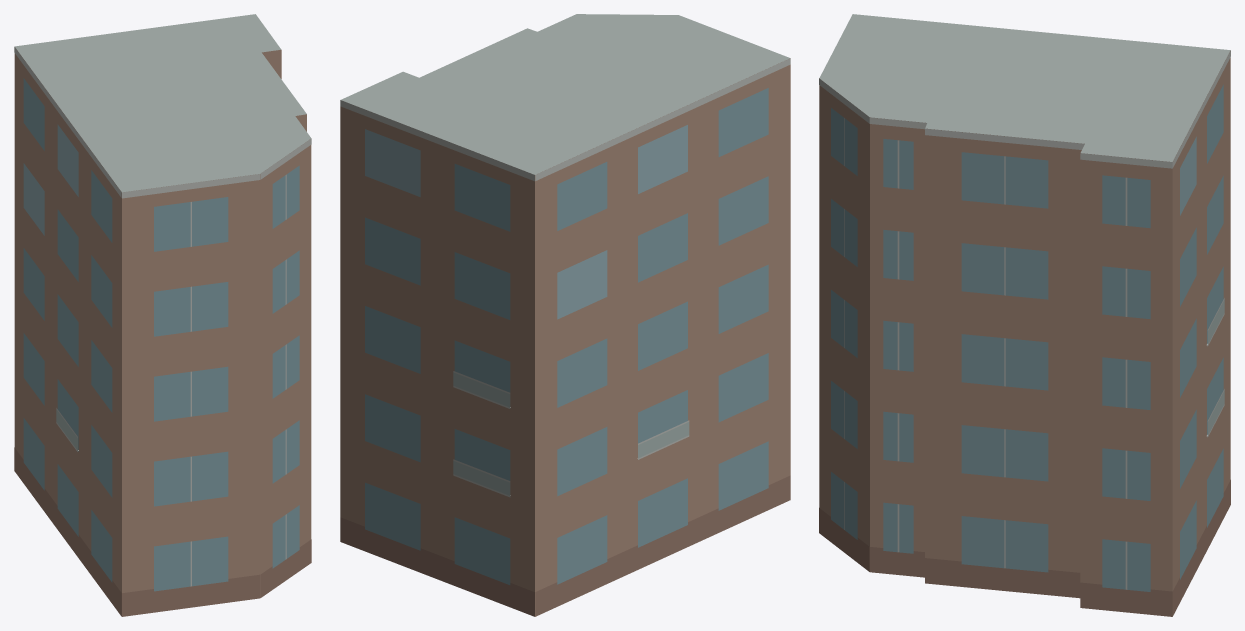
The model's file is survey-upis-32880035.glb.
3 views of the same model, side by side, from view 1: azimuth 30°, elevation 25°; view 2: azimuth 150°, elevation 25°; view 3: azimuth 270°, elevation 25° (orthographic). The views are drawn at different scales.
Parts seen in each view (by area): view 1: survey-upis-32880035.tmp; view 2: survey-upis-32880035.tmp; view 3: survey-upis-32880035.tmp.
Boxes of the visible parts, x1,y1,x2,y2 form: survey-upis-32880035.tmp: [14, 14, 311, 616]; survey-upis-32880035.tmp: [340, 14, 790, 616]; survey-upis-32880035.tmp: [819, 14, 1230, 616].
Size of the model in its own units: 11.74 by 16.8 by 13.78.
